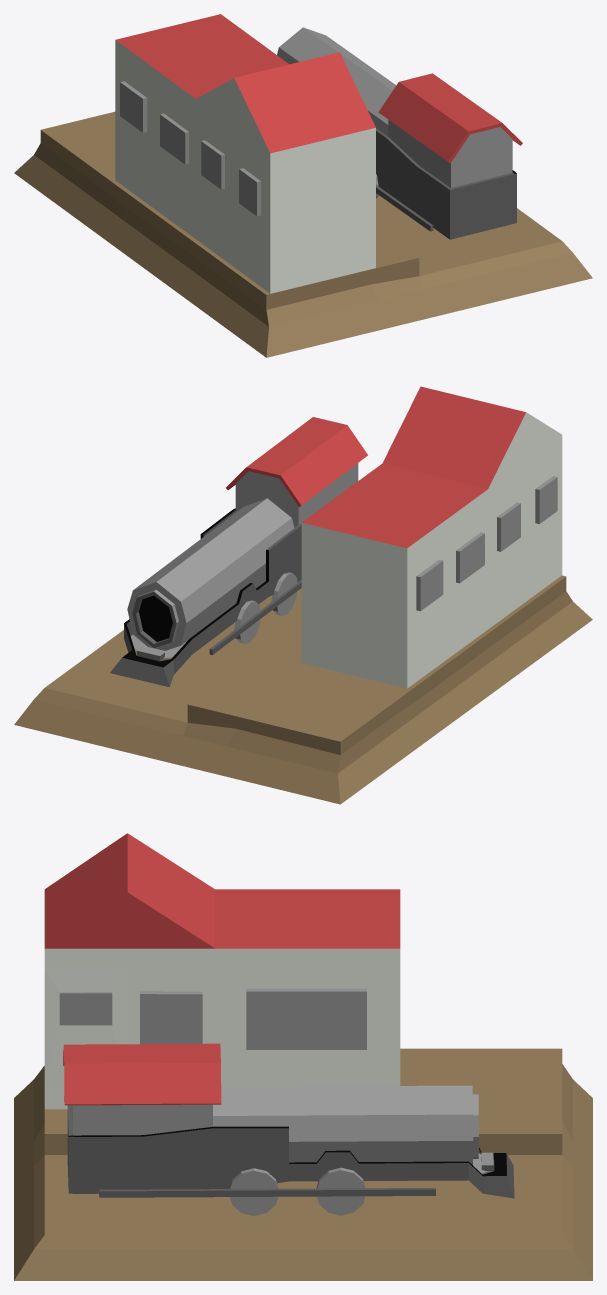
File: train_station_variation.fbx
3 views of the same model, one above another, from view 1: azimuth 30°, elevation 25°; view 2: azimuth 150°, elevation 25°; view 3: azimuth 270°, elevation 25° (orthographic). The views are drawn at different scales.
Parts seen in each view (by area): view 1: polySurface31; view 2: polySurface31; view 3: polySurface31.
Part boxes in pixels (x1,y1,x2,y2): polySurface31: [14, 14, 592, 357]; polySurface31: [14, 386, 592, 804]; polySurface31: [14, 833, 592, 1280].
Bounding box in the file's own units: 10.31 × 7.23 × 13.81.
1 material, 1 textured.
